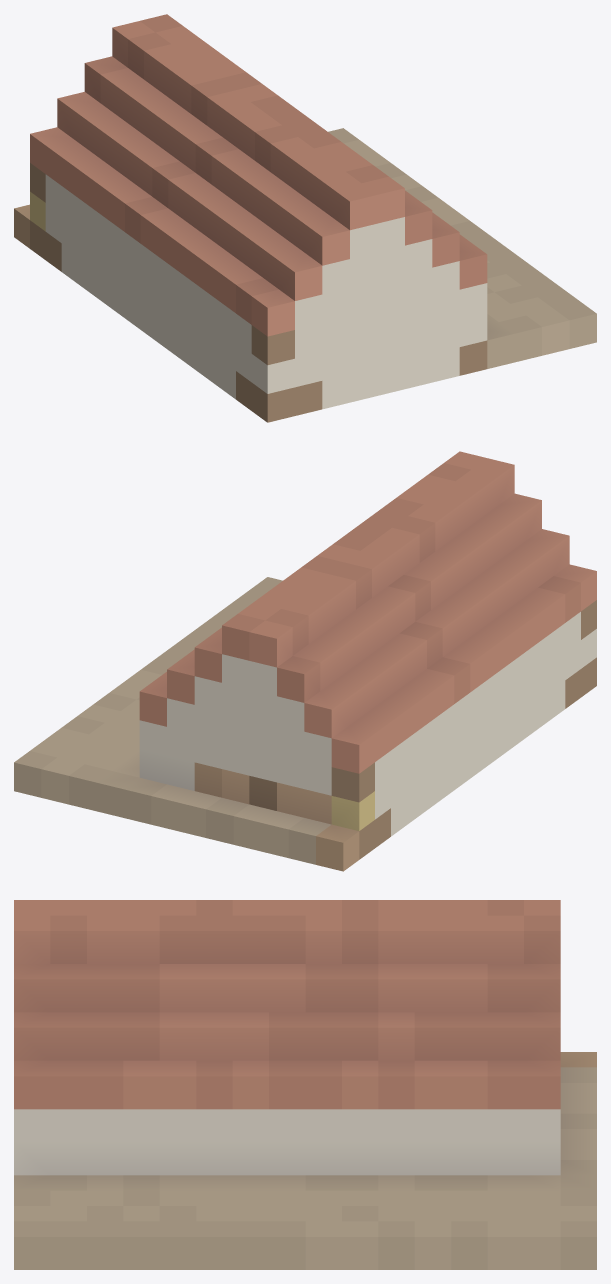
Rendered from school.lite.glb.
3 renders of one model, top to bottom at view 1: azimuth 30°, elevation 25°; view 2: azimuth 150°, elevation 25°; view 3: azimuth 270°, elevation 25°, orthographic. The views are drawn at different scales.
Visible parts, largest first — view 1: school; view 2: school; view 3: school.
Part boxes in pixels (box(x1,y1,x2,y2)): school: box(14, 14, 596, 422); school: box(14, 451, 596, 871); school: box(14, 900, 596, 1269).
Bounding box in the file's own units: 6 × 3.5 × 8.
